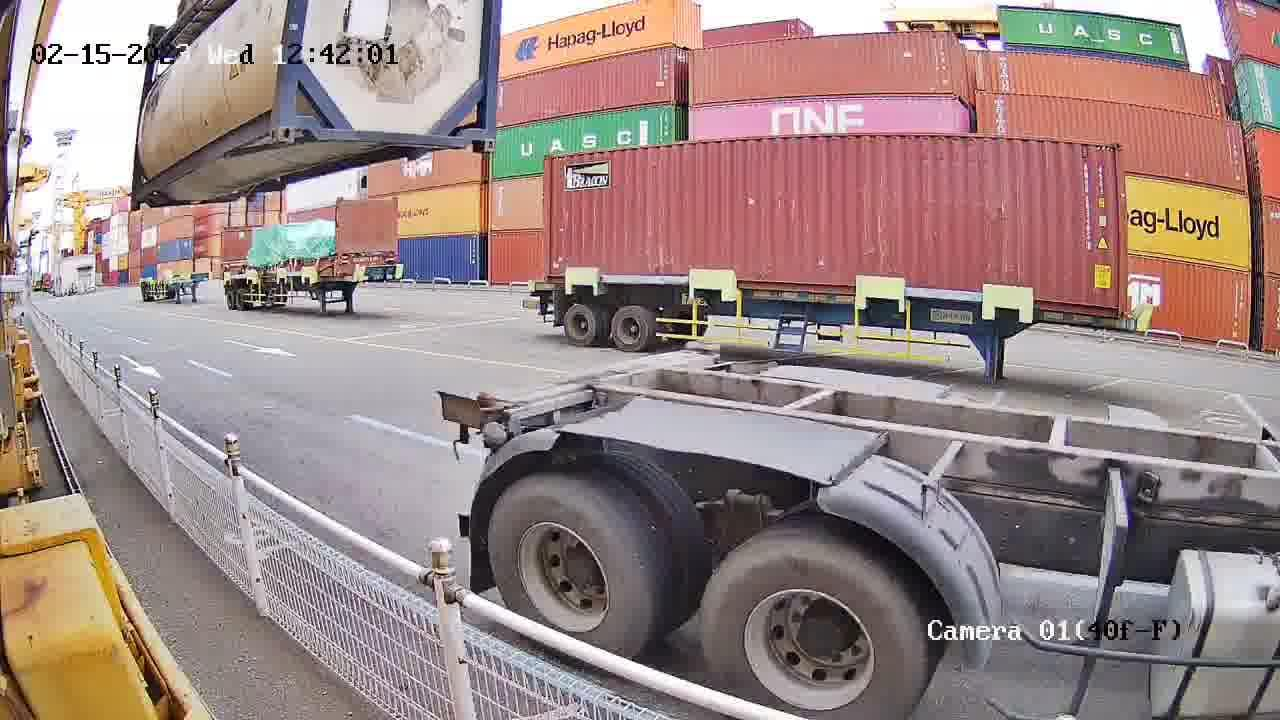Chassis: (456, 347, 718, 431)
Cone: (460, 393, 497, 428)
Hole_L: (278, 99, 321, 142)
Hole_R: (456, 113, 495, 150), (248, 98, 280, 143)
Tire: (701, 538, 930, 719), (488, 475, 651, 656)
